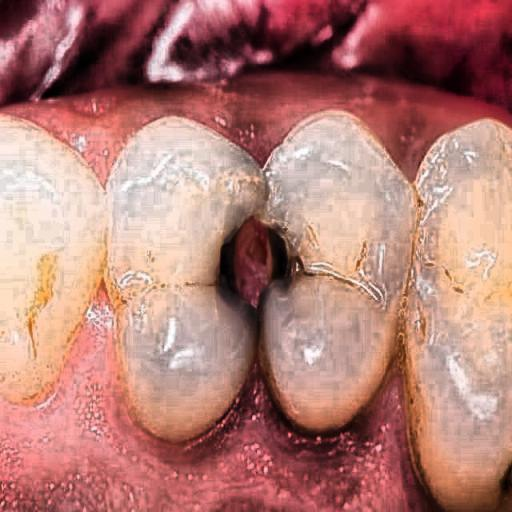Caries: (196, 181, 322, 321)
